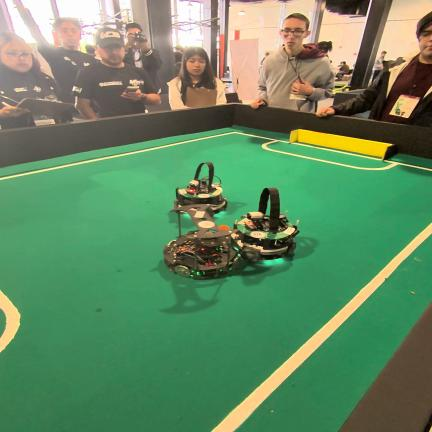cancha: (0, 126, 432, 432), (236, 234, 432, 432)
limites: (212, 222, 432, 432), (0, 132, 266, 181), (261, 140, 432, 172), (0, 290, 20, 352)
pelota: (219, 225, 229, 229)
porteria: (289, 129, 394, 159)
robot: (163, 204, 240, 279), (232, 188, 299, 262), (174, 162, 227, 213)
